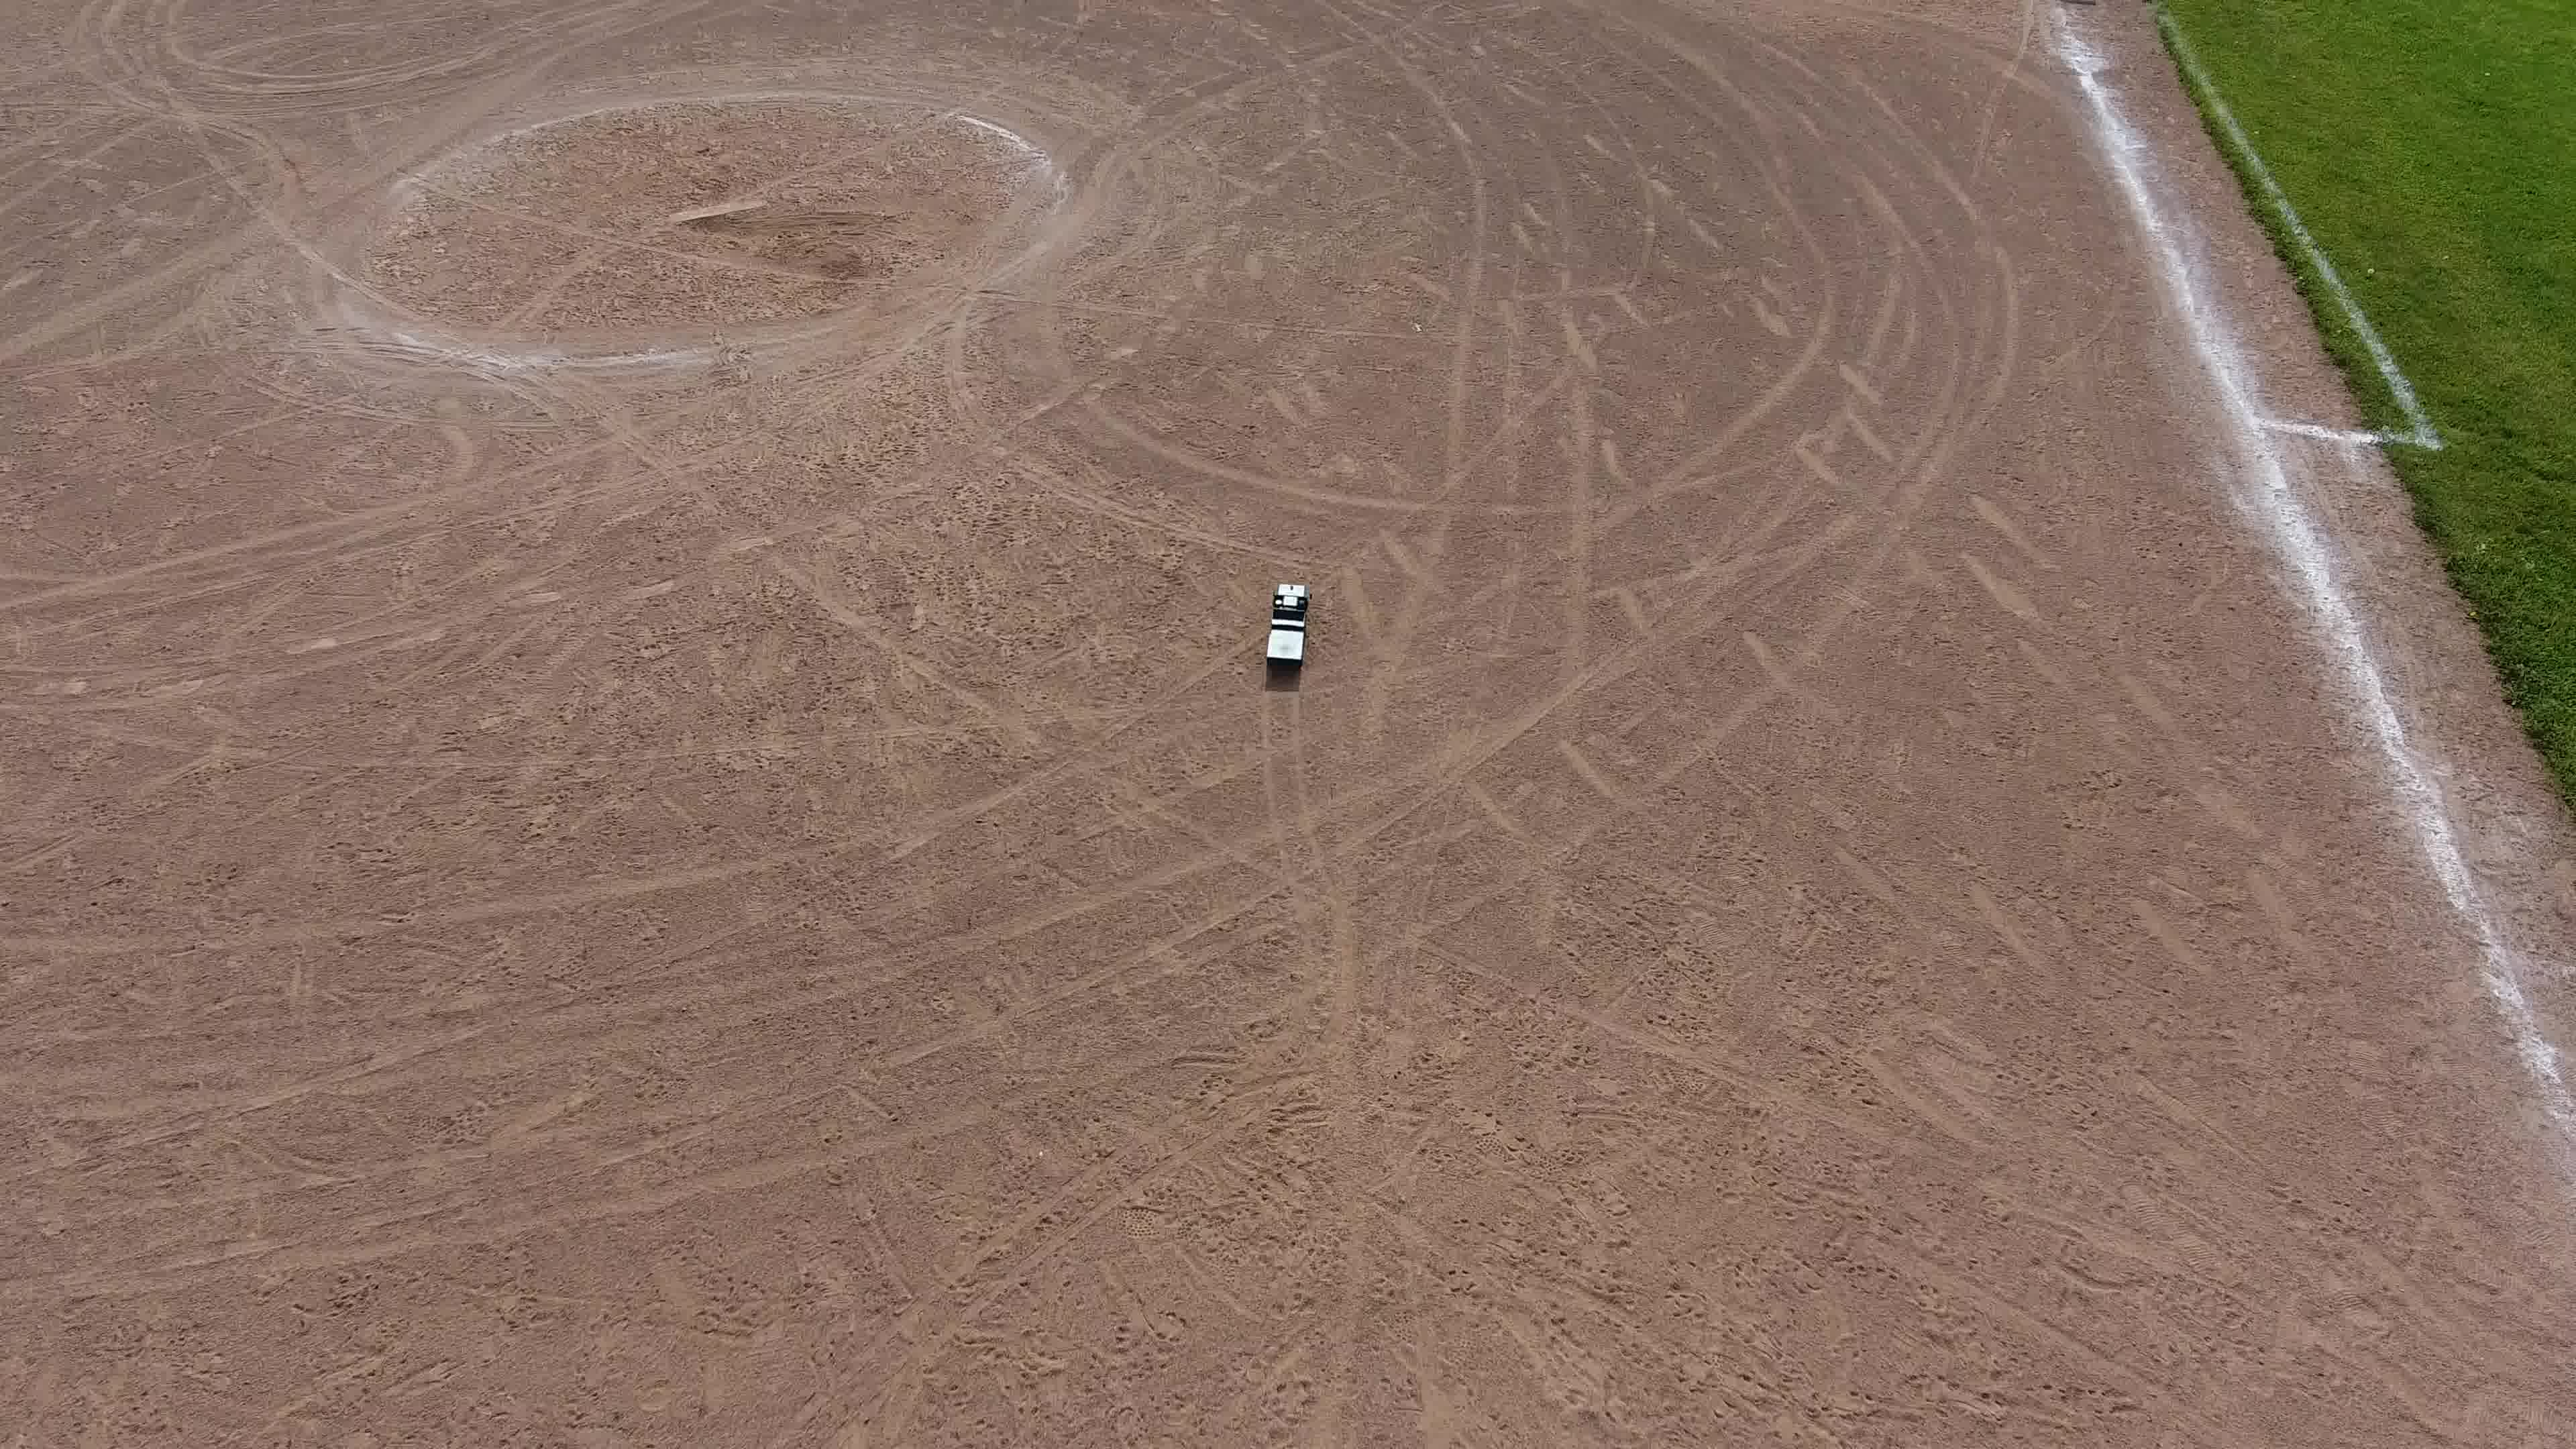transporter9: (1263, 579, 1315, 672)
